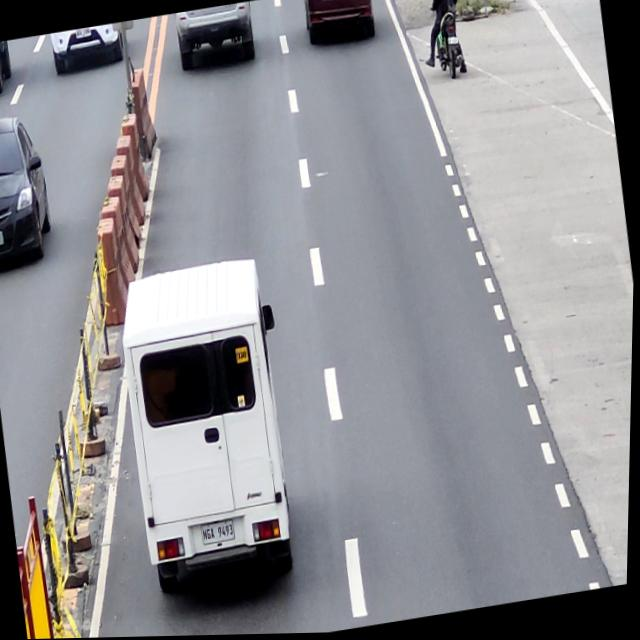Car: (105, 252, 313, 608), (171, 1, 260, 72), (301, 0, 378, 47)
License-Plate: (202, 522, 239, 548), (447, 37, 460, 48)
Motorcycle: (425, 0, 469, 80)
